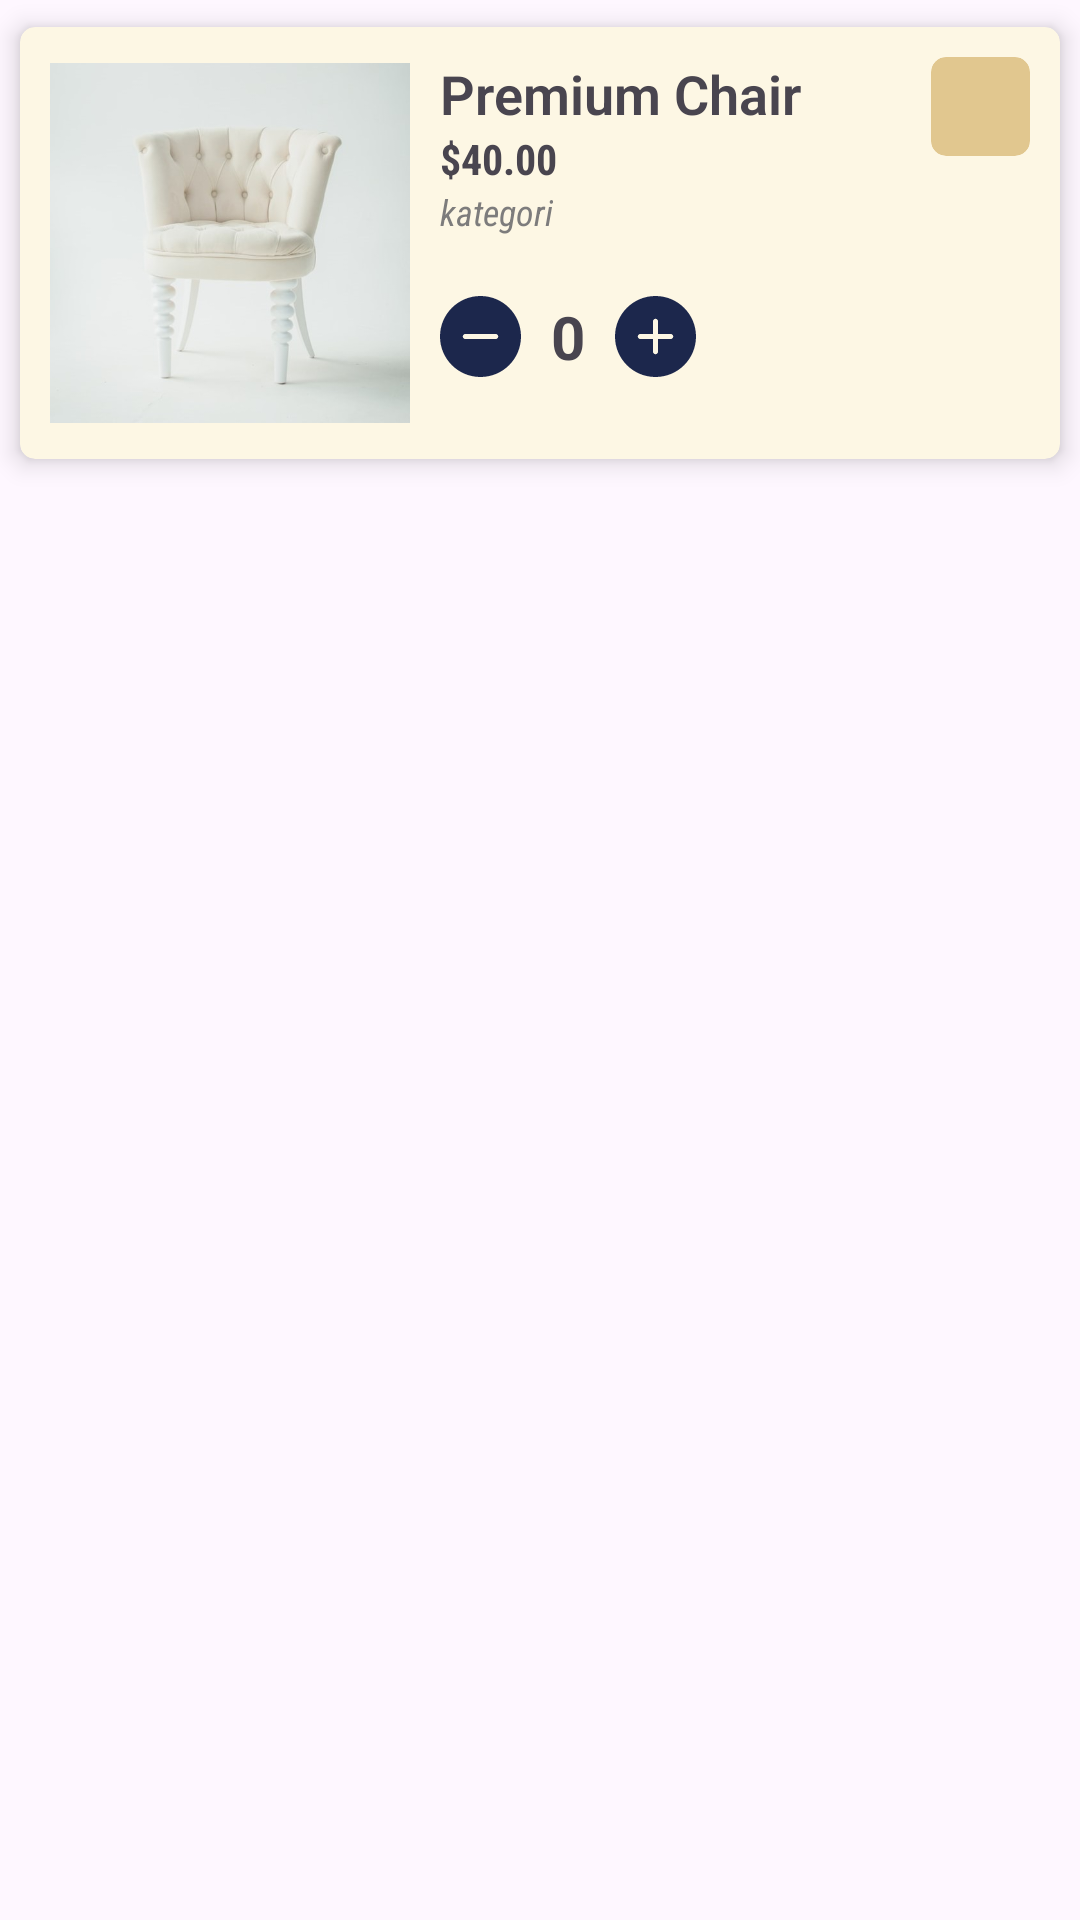

Where icons sit on this 1080px x 1920px app screen, as bbox=(x1, y1, x2, y2):
minus: bbox=(440, 296, 521, 377)
plus: bbox=(615, 296, 696, 377)
